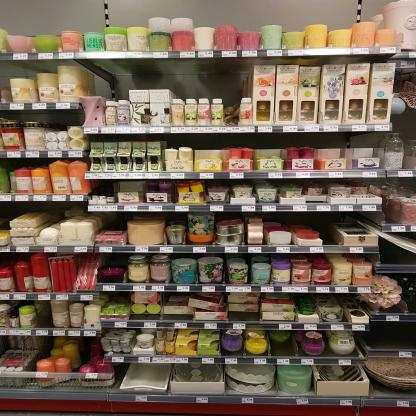Void: (175, 64, 243, 99), (94, 68, 128, 101), (371, 324, 411, 350), (320, 214, 339, 243), (140, 67, 162, 89), (112, 291, 132, 304), (105, 215, 119, 229), (97, 182, 111, 192)
